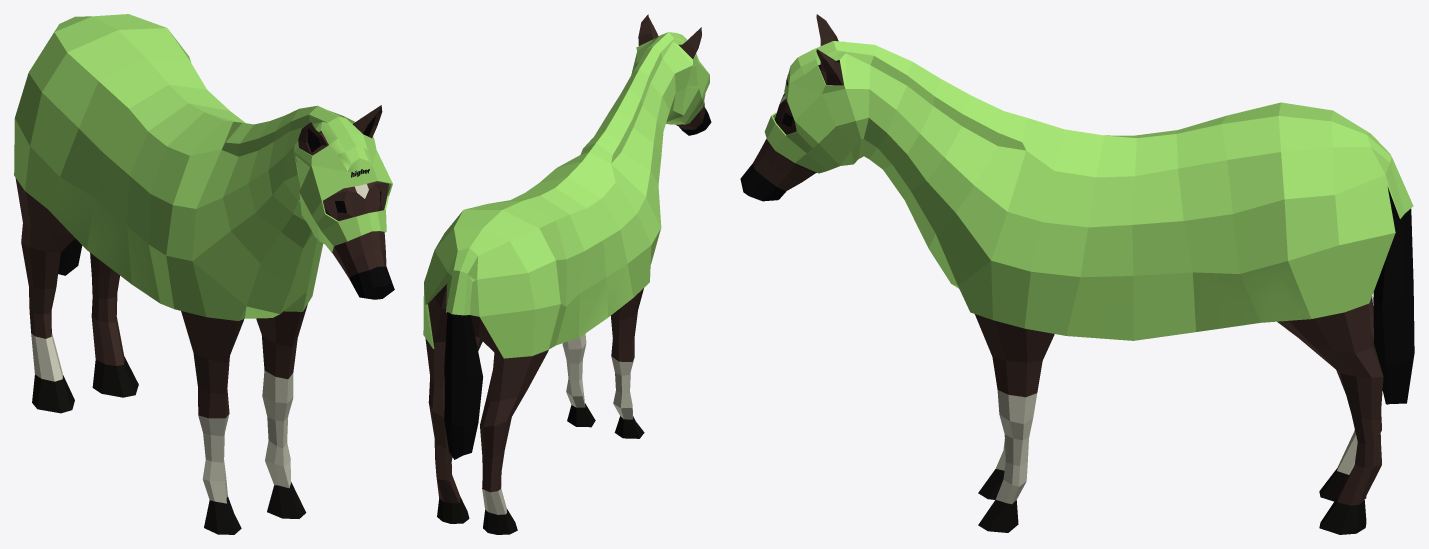
The model's file is Horsefacts_green.glb.
The picture shows the model from 3 angles, left to right: view 1: azimuth 30°, elevation 25°; view 2: azimuth 150°, elevation 25°; view 3: azimuth 270°, elevation 25°; orthographic projection. The views are drawn at different scales.
Visible parts, largest first — view 1: horse; view 2: horse; view 3: horse.
Boxes of the visible parts, x1=… form: horse: x1=14, y1=14, x2=394, y2=534; horse: x1=423, y1=14, x2=711, y2=534; horse: x1=740, y1=14, x2=1414, y2=534.
Bounding box in the file's own units: 0.7352 × 1.99 × 2.54.
